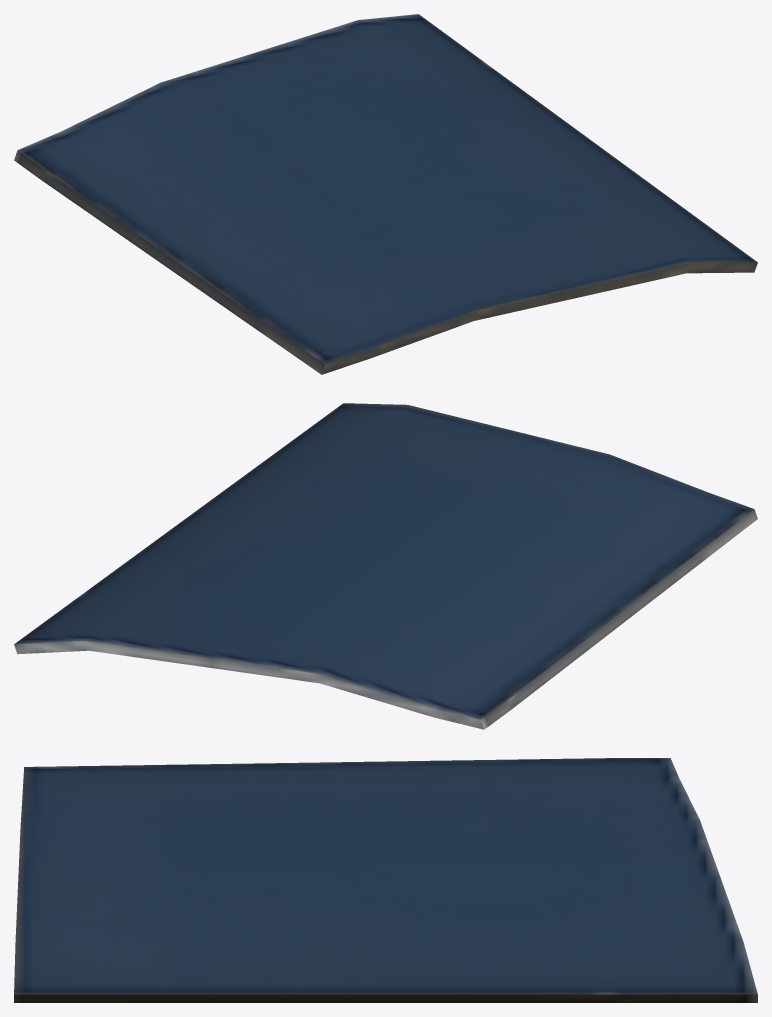
File: CavalierRearWindow_WorldItem.fbx
3 renders of one model, top to bottom at view 1: azimuth 30°, elevation 25°; view 2: azimuth 150°, elevation 25°; view 3: azimuth 270°, elevation 25°, orthographic. The views are drawn at different scales.
Visible parts, largest first — view 1: RearRightWindow_obj; view 2: RearRightWindow_obj; view 3: RearRightWindow_obj.
Part boxes in pixels (box(x1,y1,x2,y2)): RearRightWindow_obj: box(14, 14, 757, 374); RearRightWindow_obj: box(14, 403, 757, 729); RearRightWindow_obj: box(14, 758, 757, 1002).
Size of the model in its own units: 0.5585 by 0.0368 by 0.7385.
